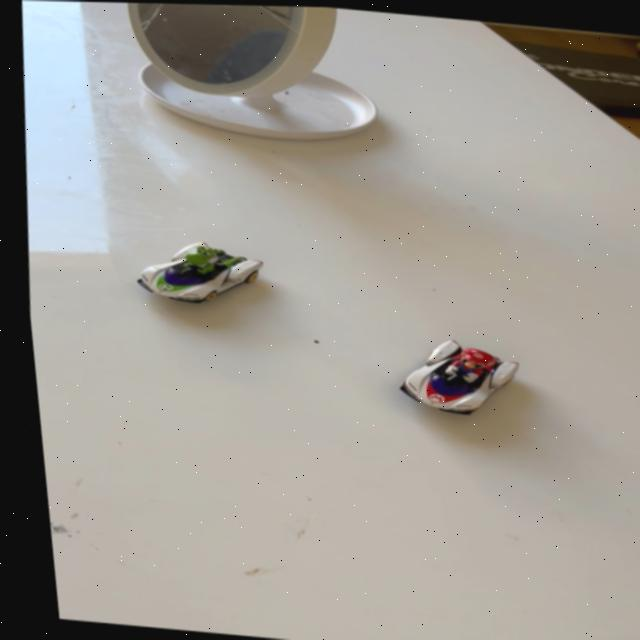mario: (369, 324, 535, 429)
yoshi: (114, 228, 275, 317)
